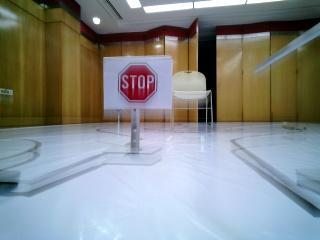stop: (109, 56, 171, 111)
